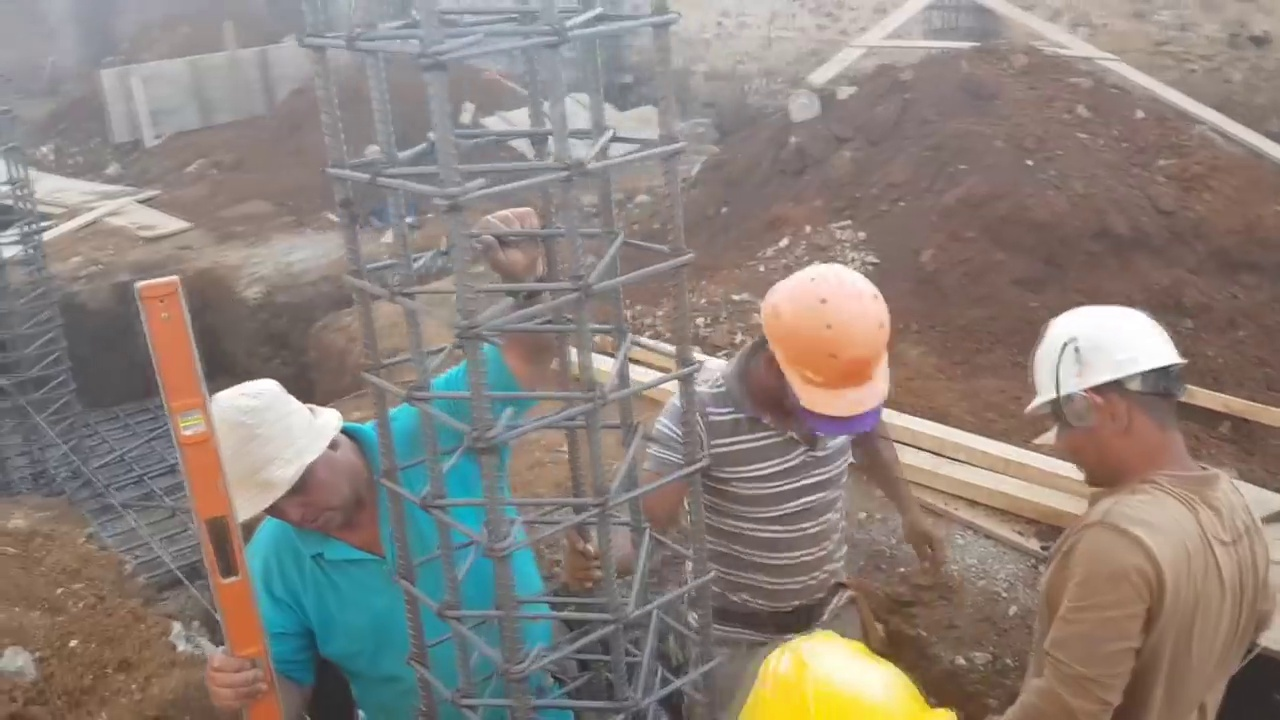helmet: (757, 275, 898, 428), (1045, 308, 1191, 425), (755, 639, 928, 720)
helmet-off: (200, 381, 362, 557)
helmet-on: (1027, 305, 1202, 500), (733, 275, 898, 446)
person: (193, 213, 572, 711), (642, 268, 949, 707), (1003, 300, 1260, 720)
